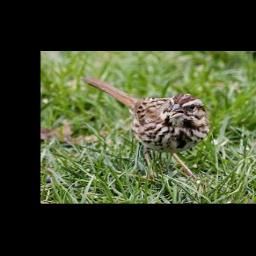Sparrow: (79, 75, 212, 173)
